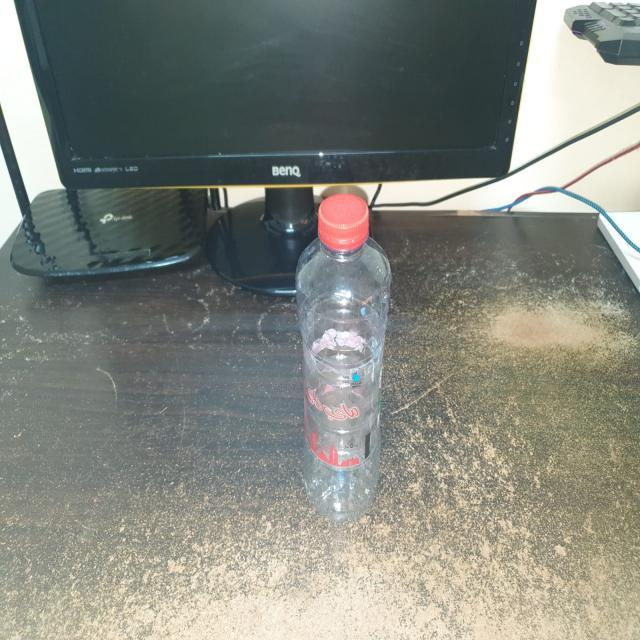chai: (298, 194, 391, 521)
